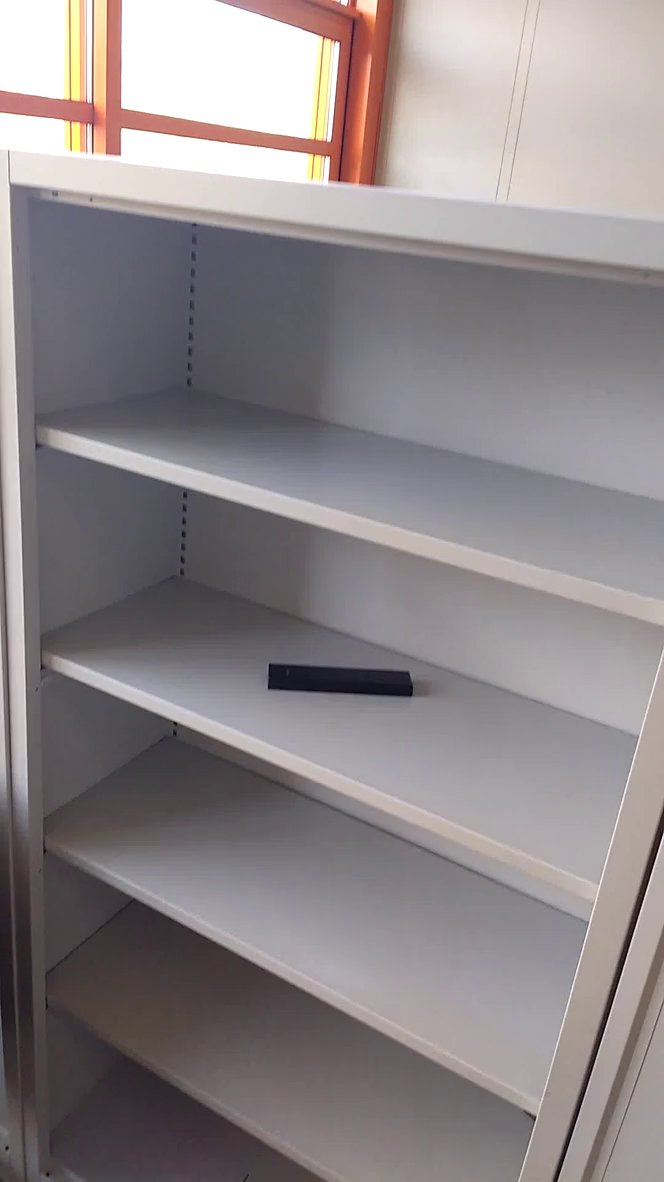remote: (249, 644, 426, 713)
